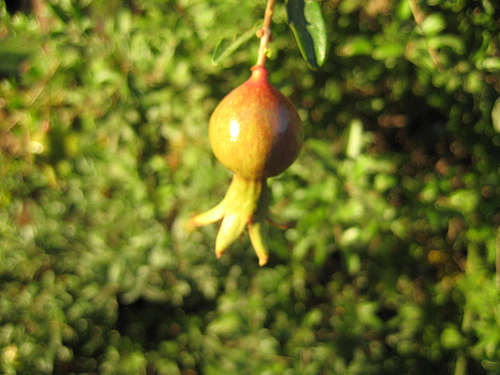pomogranate: (189, 59, 308, 271)
